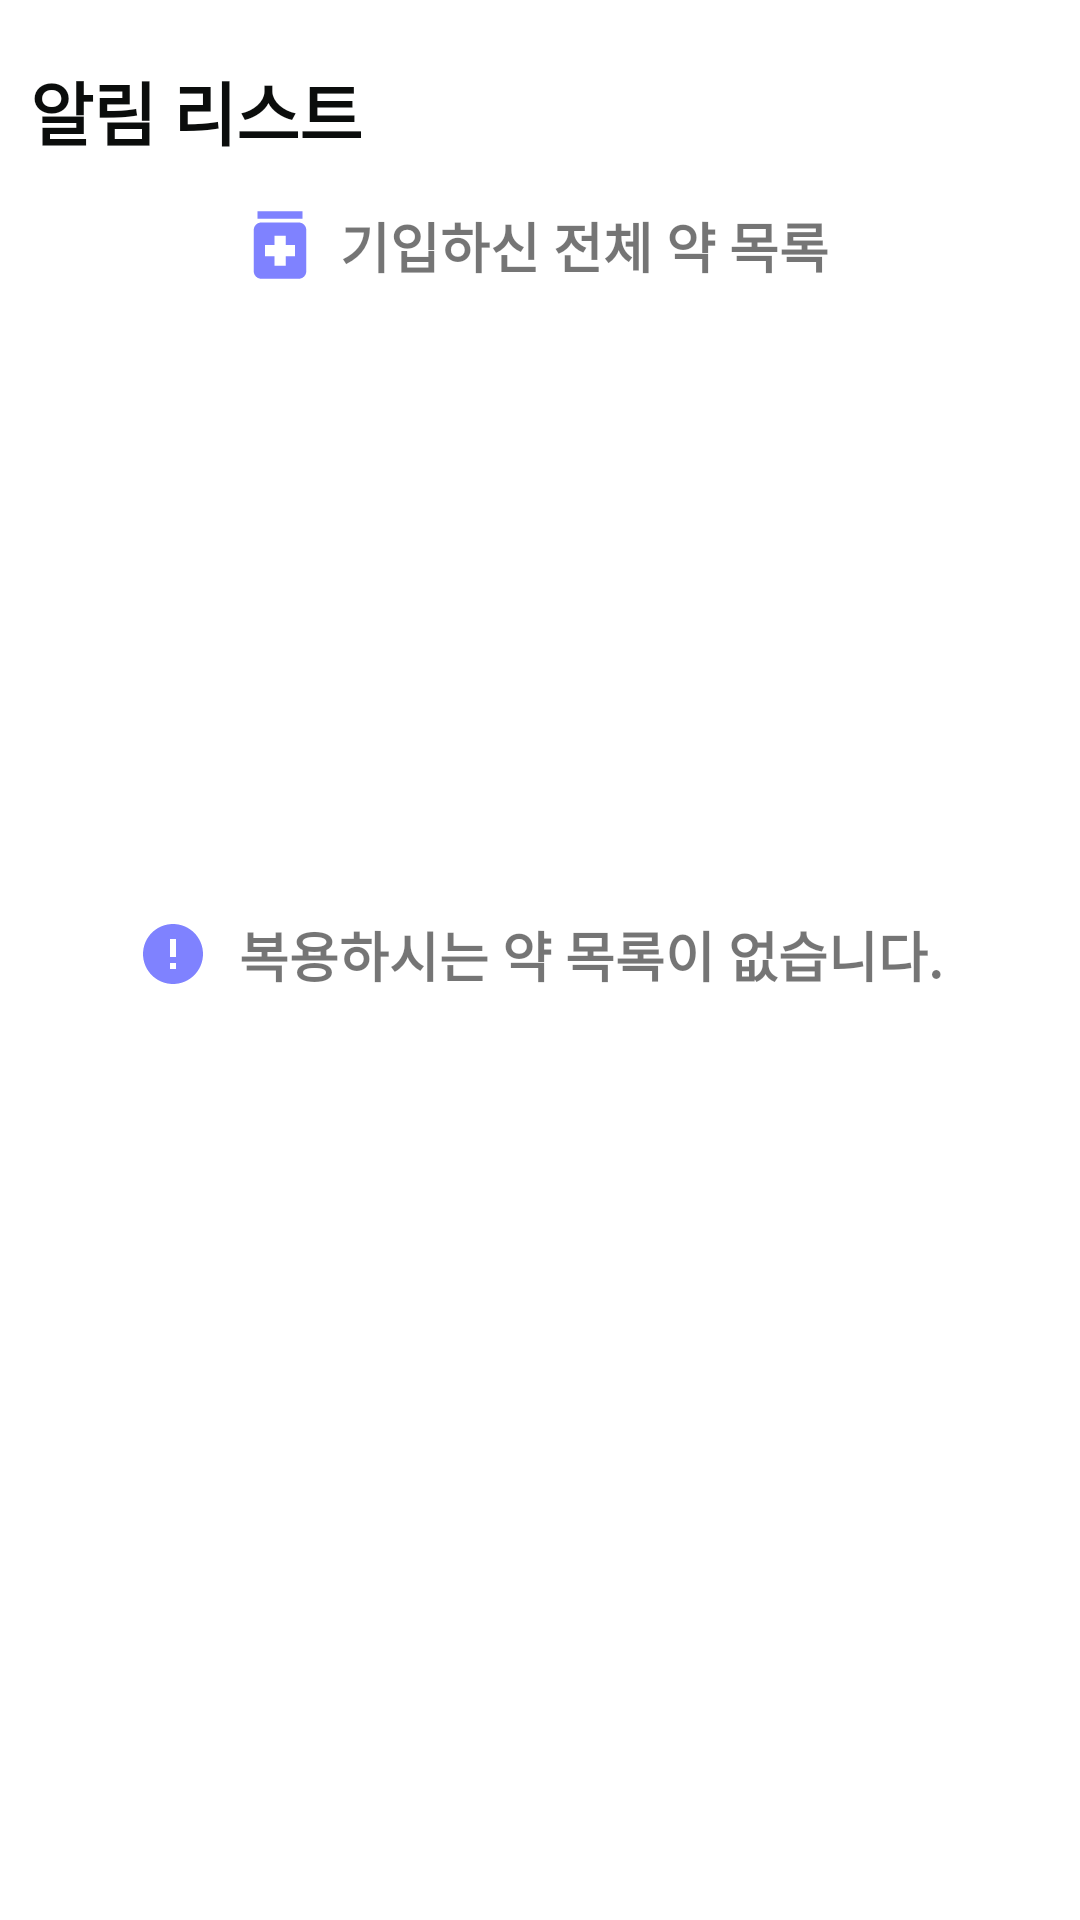

Icons on this 1080w x 1920h Android screen, each with its box as detection(x1, y1, x2, y2):
error: detection(143, 924, 203, 984)
medication: detection(253, 211, 307, 279)
